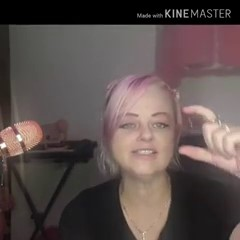C: (171, 99, 238, 169)
